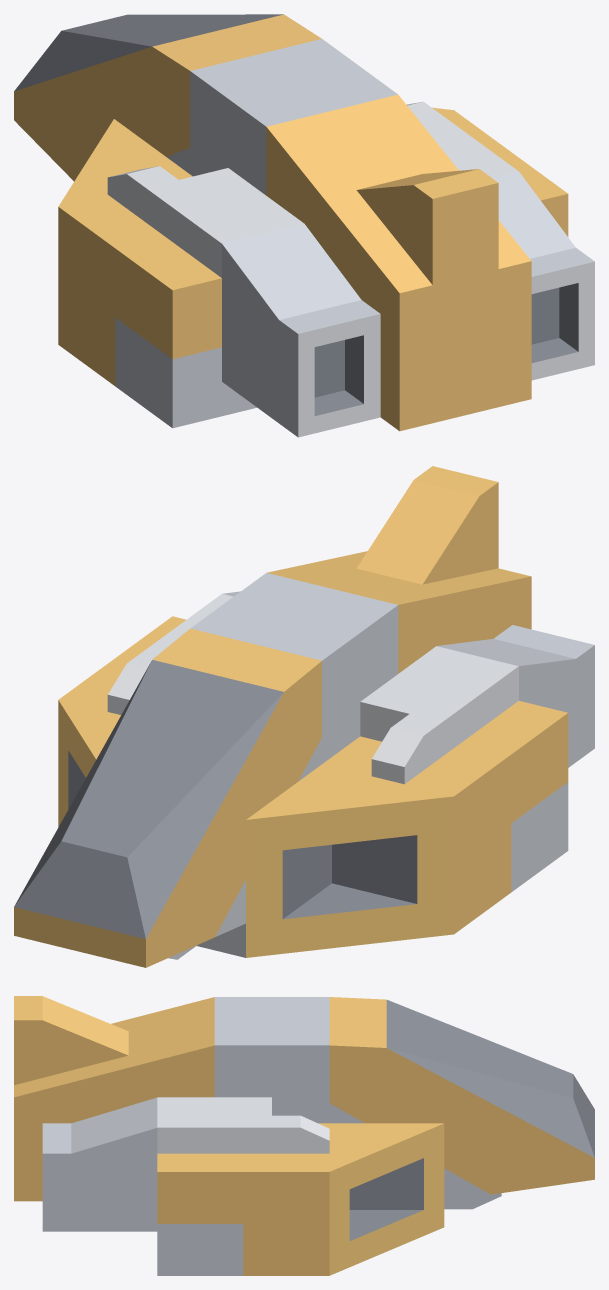
Rendered from craft_racer.glb.
3 views of the same model, one above another, from view 1: azimuth 30°, elevation 25°; view 2: azimuth 150°, elevation 25°; view 3: azimuth 270°, elevation 25° (orthographic). The views are drawn at different scales.
Visible parts, largest first — view 1: craft_racer; view 2: craft_racer; view 3: craft_racer.
Boxes of the visible parts, box(x1,y1,x2,y2) form: craft_racer: box(14, 14, 594, 437); craft_racer: box(14, 466, 594, 967); craft_racer: box(14, 996, 594, 1275).
Size of the model in its own units: 1.2 by 0.75 by 2.03.
1 material, 1 textured.
